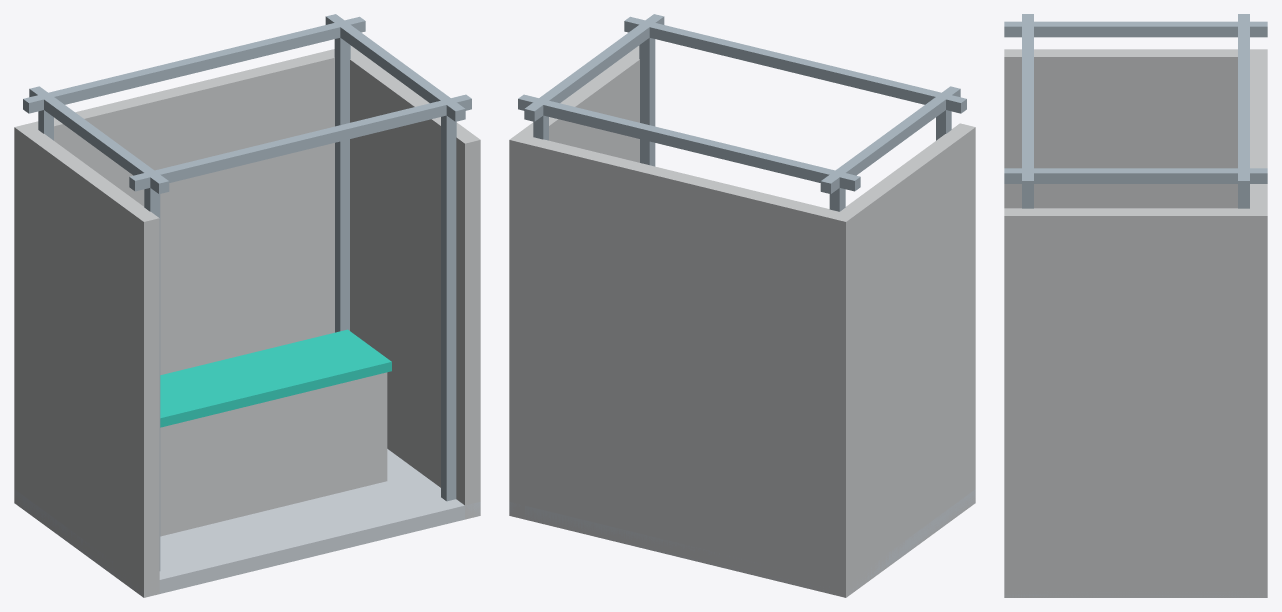
The picture shows the model from 3 angles, left to right: view 1: azimuth 30°, elevation 25°; view 2: azimuth 150°, elevation 25°; view 3: azimuth 270°, elevation 25°; orthographic projection.
Parts seen in each view (by area): view 1: Exhibition Booth Concept; view 2: Exhibition Booth Concept; view 3: Exhibition Booth Concept.
Part boxes in pixels (bbox=[...]): Exhibition Booth Concept: bbox=[14, 14, 480, 597]; Exhibition Booth Concept: bbox=[509, 14, 975, 597]; Exhibition Booth Concept: bbox=[1004, 14, 1267, 597].
Size of the model in its own units: 3 by 3.49 by 2.
